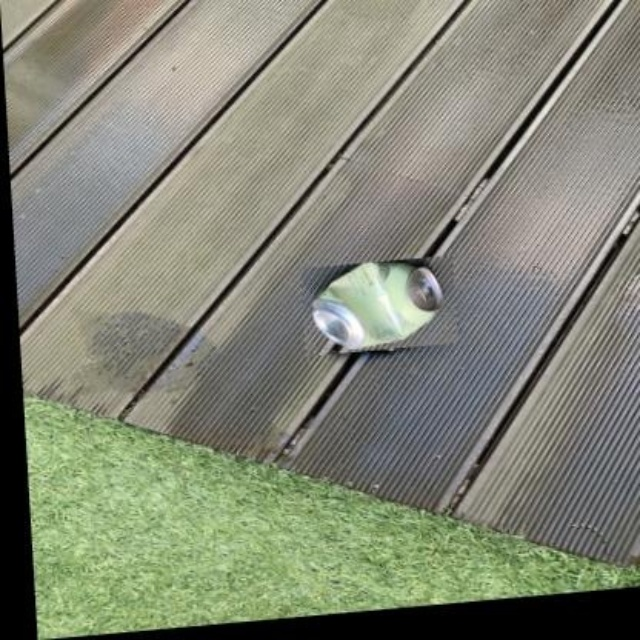trash: (312, 263, 442, 349)
